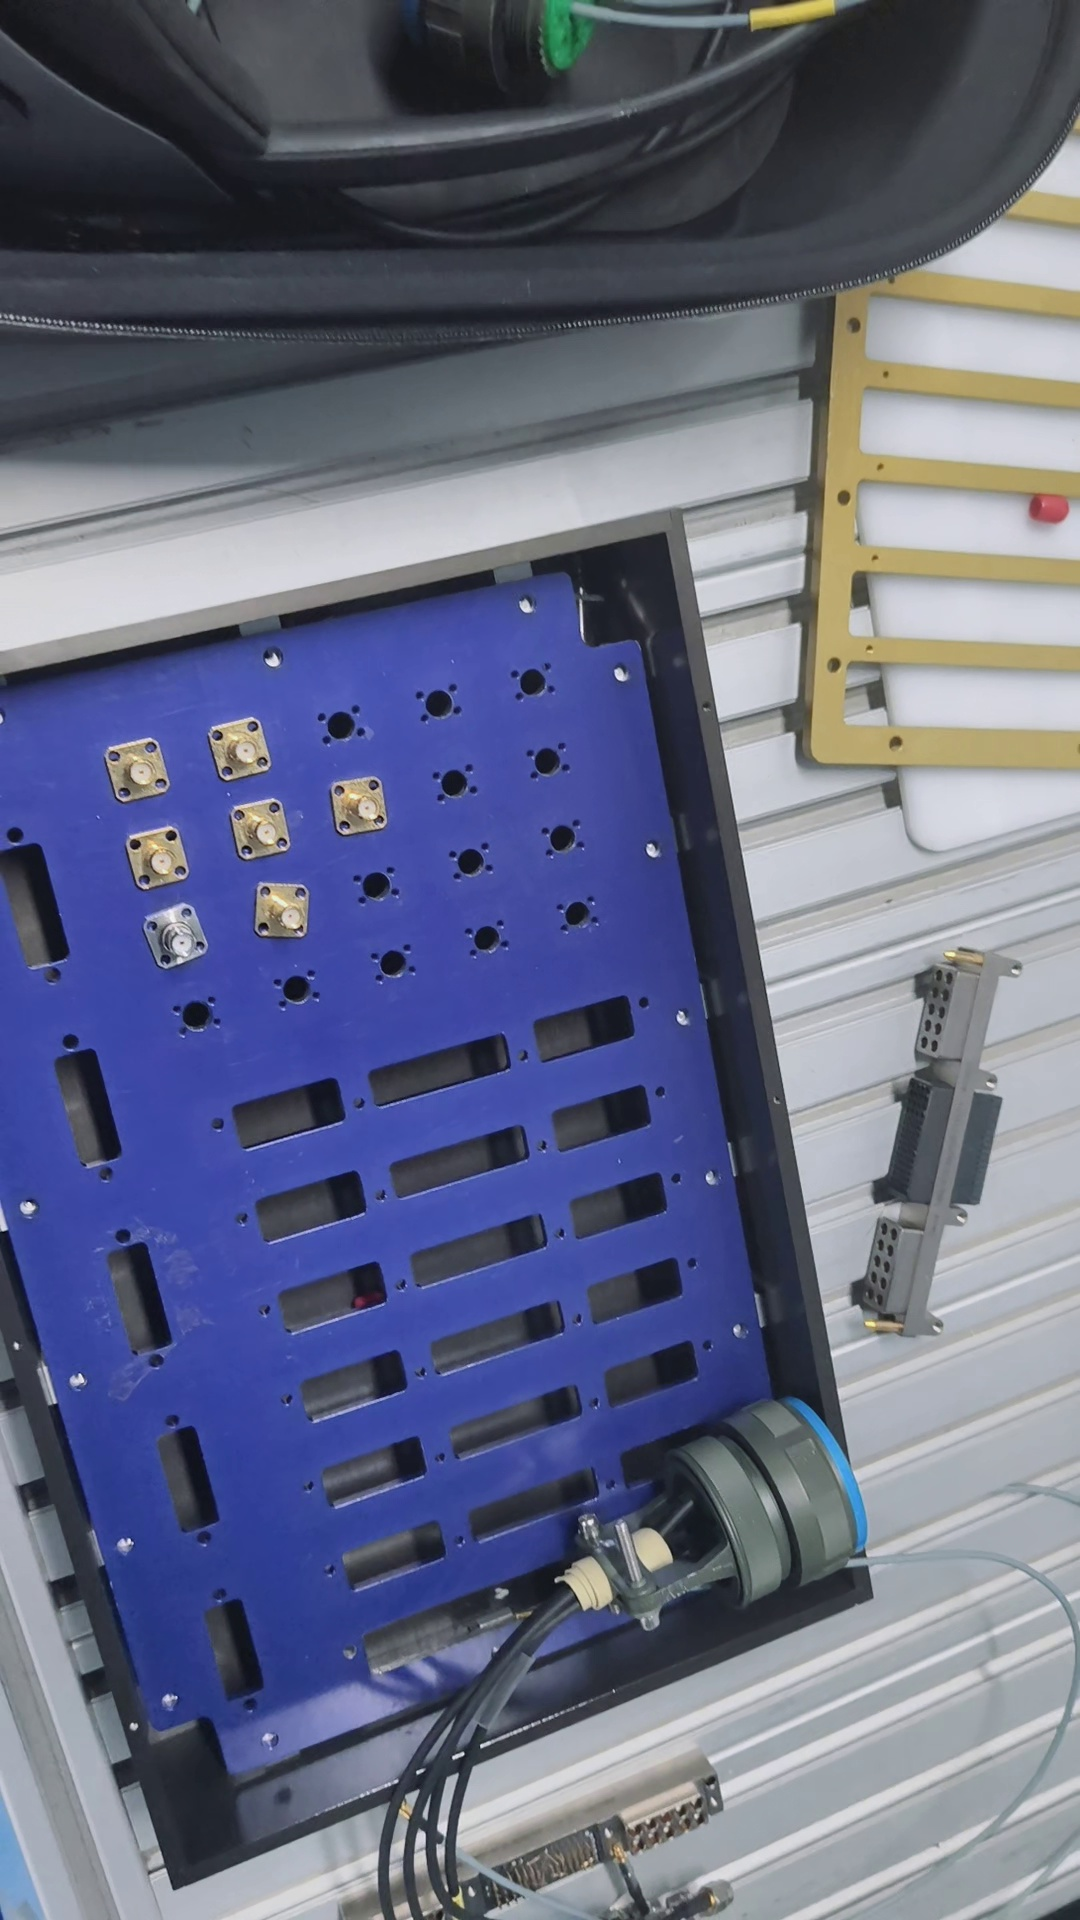SMA: (145, 898, 214, 972), (129, 824, 199, 887), (105, 738, 171, 804), (229, 796, 297, 860), (255, 880, 320, 942), (214, 717, 276, 781), (331, 781, 396, 837)
